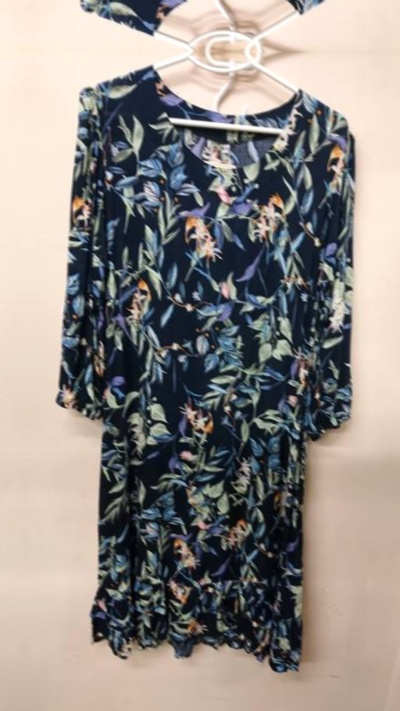Dress: (45, 65, 397, 686), (51, 0, 400, 36), (0, 61, 8, 683), (0, 0, 14, 32)
